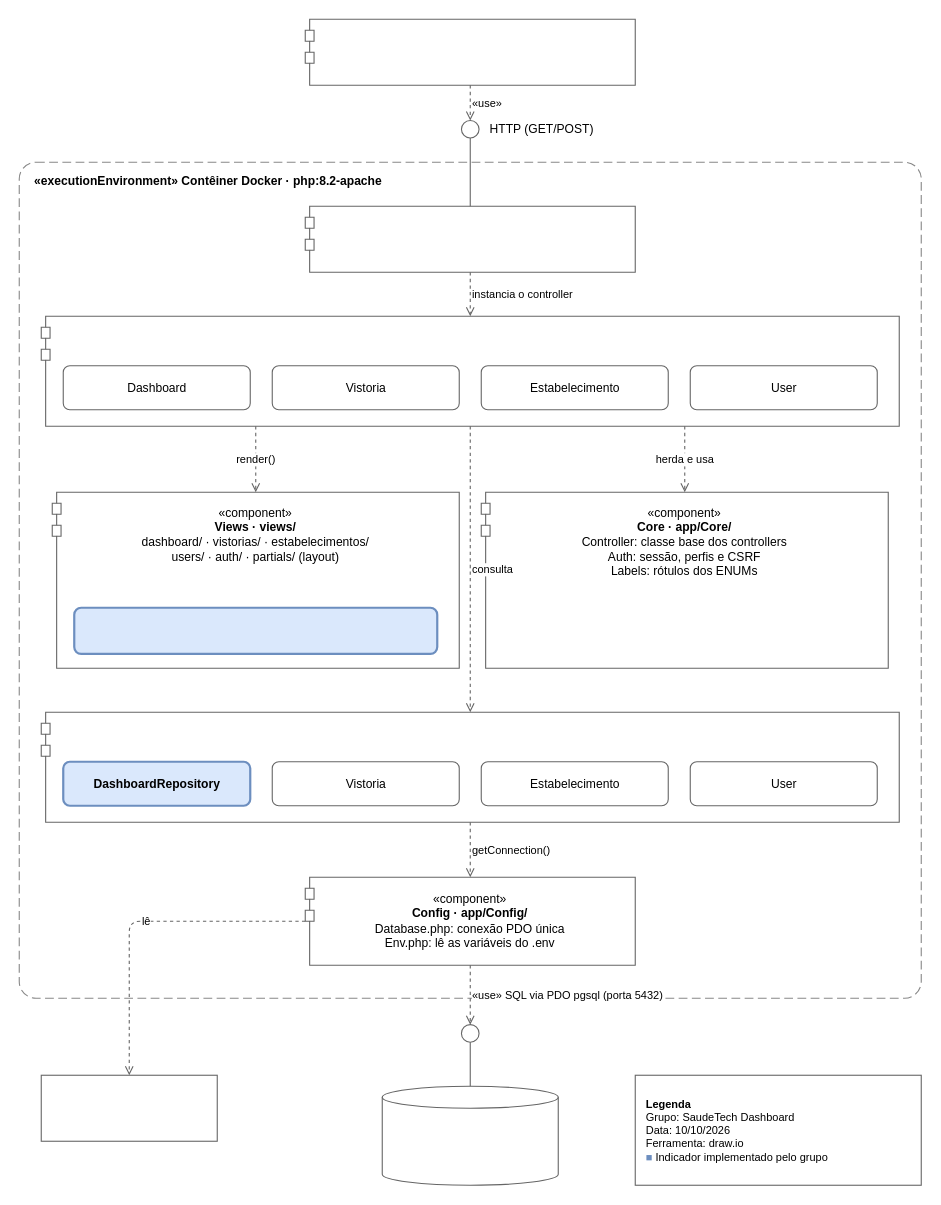
Some shapes in this 941 by 1205 pixel diagram are drawn without their labels. The box of each missing label's shape, as (x1, y1, x2, y2) in pixels:
Indicador do grupo views/dashboard/_grafico.php: (73, 606, 438, 654)
«artifact» .env credenciais do banco: (40, 1074, 217, 1141)
«component» Controllers · app/Controllers/: (40, 315, 899, 426)
«component» Navegador do usuário HTML · Chart.js · Lucide · SweetAlert2: (304, 18, 635, 85)
«component» Repositories · app/Repositories/: (40, 711, 899, 822)
«component» Roteador · public/index.php Sessão, login obrigatório, rotas: (304, 205, 635, 272)
«database» PostgreSQL · saudetech hospedado no Render: (381, 1085, 558, 1185)
